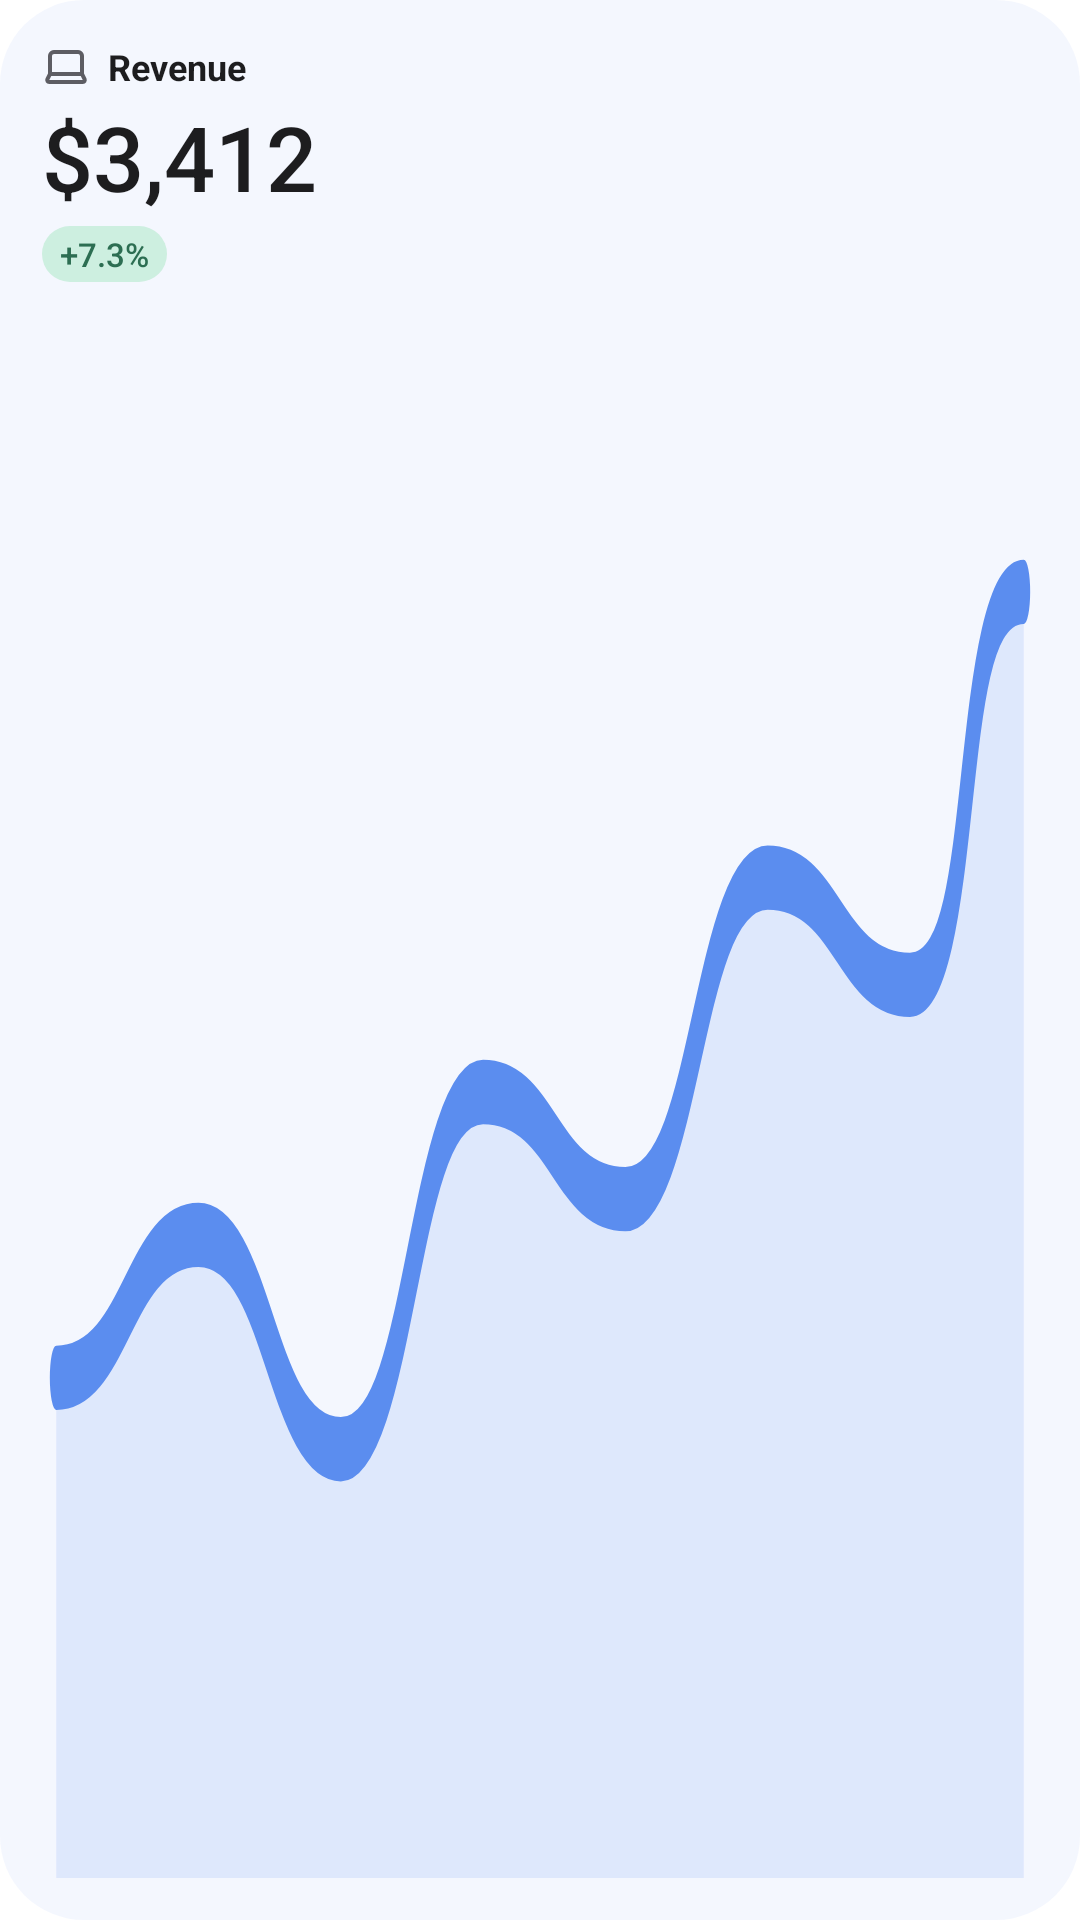

Screen size 1080×1920. Icon name, then its box in pixels as (x1, y1, x2, y2):
beluga laptop: (45, 50, 87, 84)
